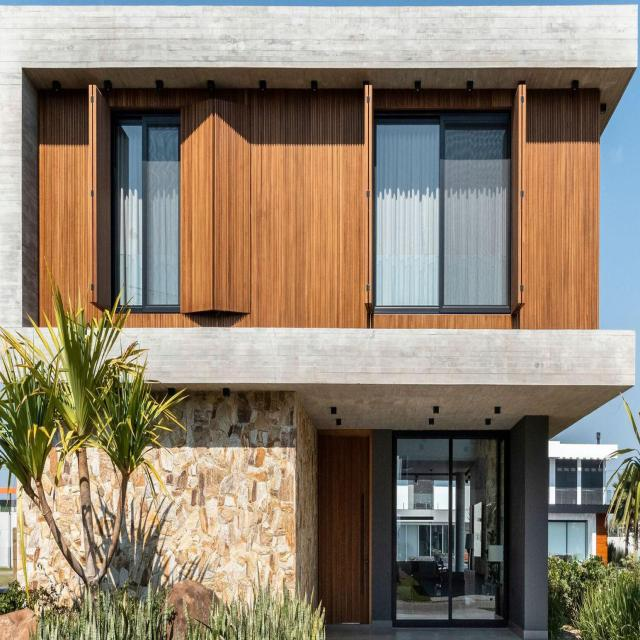door: (318, 432, 370, 625)
window: (374, 103, 516, 312), (392, 436, 503, 623), (112, 106, 180, 311)
